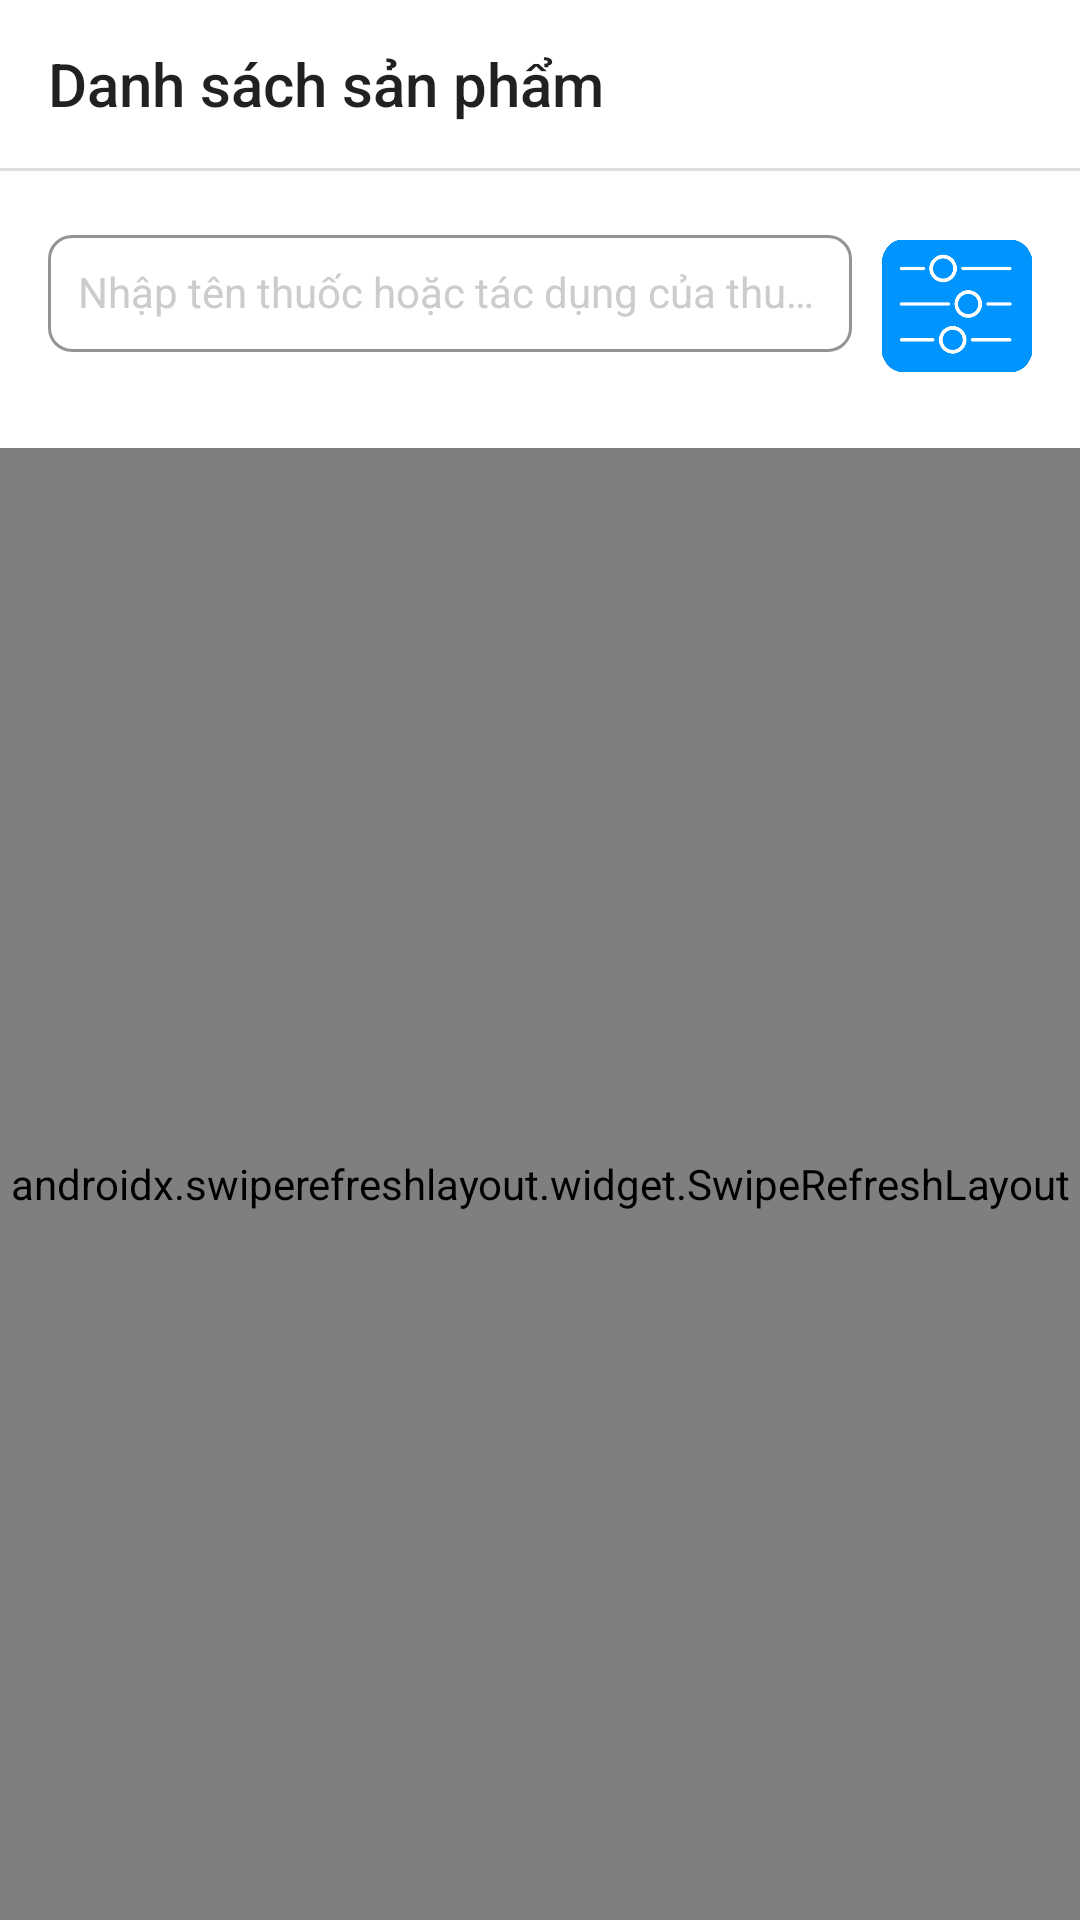

Icon bounding boxes for this 1080*1920 phone screenshot, format (x1, y1, x2, y2):
filter corner: (882, 240, 1032, 372)
